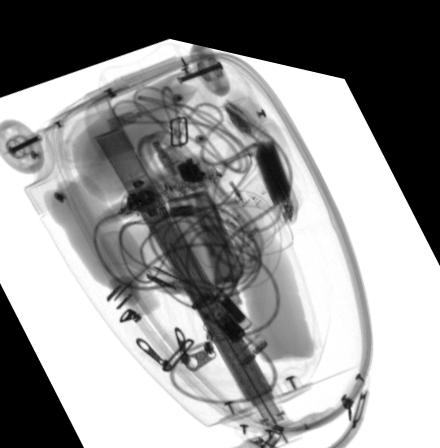Powerbank: (252, 126, 297, 212)
